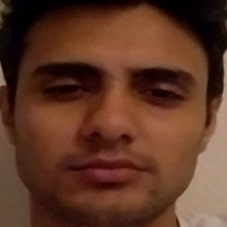drowsy: (26, 48, 198, 195)
